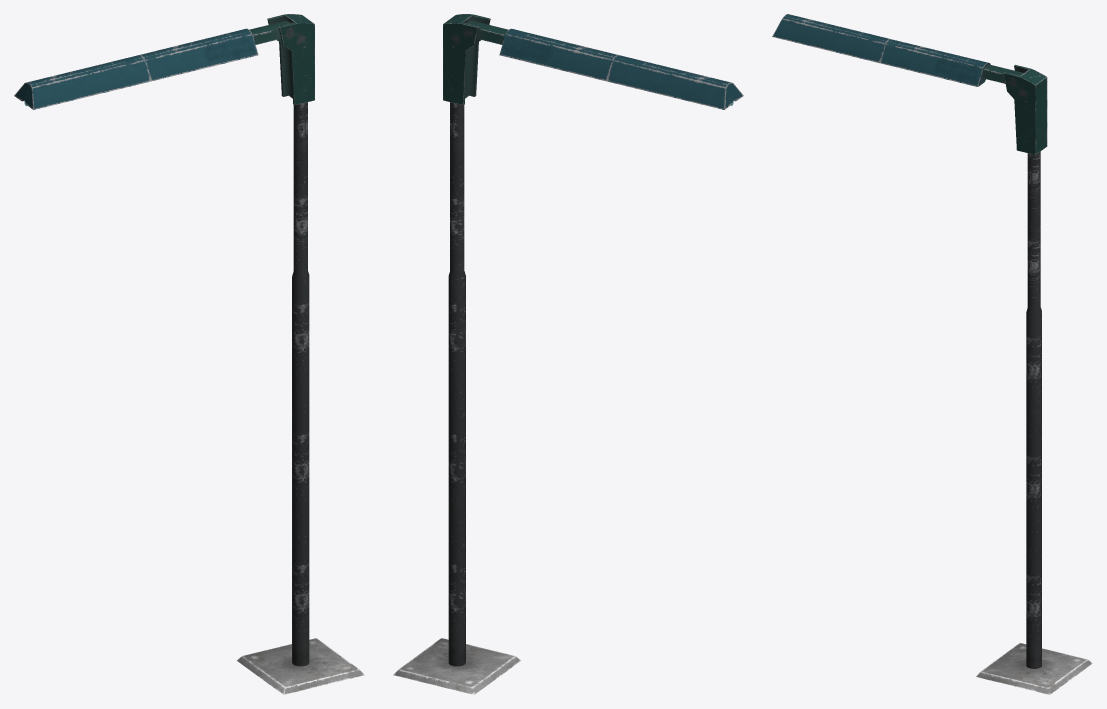
The model's file is TRF0410001.fbx.
The picture shows the model from 3 angles, left to right: view 1: azimuth 30°, elevation 25°; view 2: azimuth 150°, elevation 25°; view 3: azimuth 330°, elevation 25°; orthographic projection. The views are drawn at different scales.
Parts seen in each view (by area): view 1: smTRF0410001; view 2: smTRF0410001; view 3: smTRF0410001.
Boxes of the visible parts, bbox=[...] form: smTRF0410001: bbox=[14, 14, 364, 694]; smTRF0410001: bbox=[393, 14, 743, 694]; smTRF0410001: bbox=[772, 14, 1092, 694].
Bounding box in the file's own units: 199 × 389 × 50.8.
Materials: 1 (1 with a texture image).
